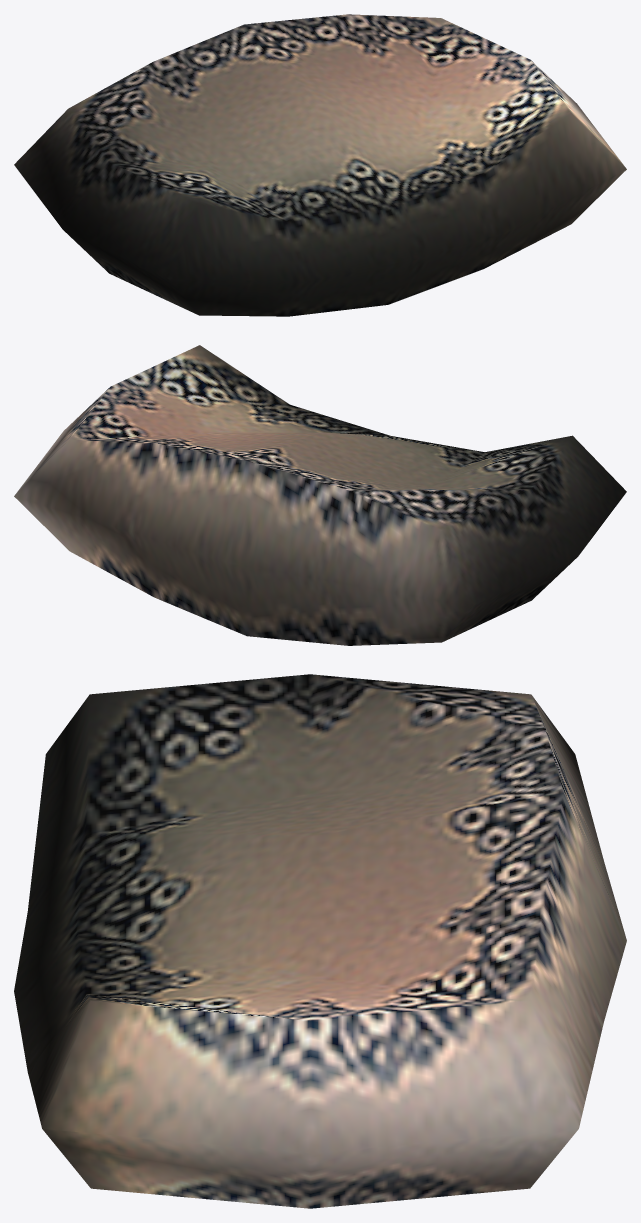
Rendered from PrayerPillow.fbx.
The picture shows the model from 3 angles, top to bottom: view 1: azimuth 30°, elevation 25°; view 2: azimuth 150°, elevation 25°; view 3: azimuth 270°, elevation 25°; orthographic projection. The views are drawn at different scales.
Parts seen in each view (by area): view 1: prayer_pillow; view 2: prayer_pillow; view 3: prayer_pillow.
Boxes of the visible parts, x1=… form: prayer_pillow: x1=14, y1=14, x2=626, y2=316; prayer_pillow: x1=14, y1=345, x2=626, y2=645; prayer_pillow: x1=14, y1=674, x2=626, y2=1208.
Bounding box in the file's own units: 0.7941 × 0.2578 × 0.4854.
